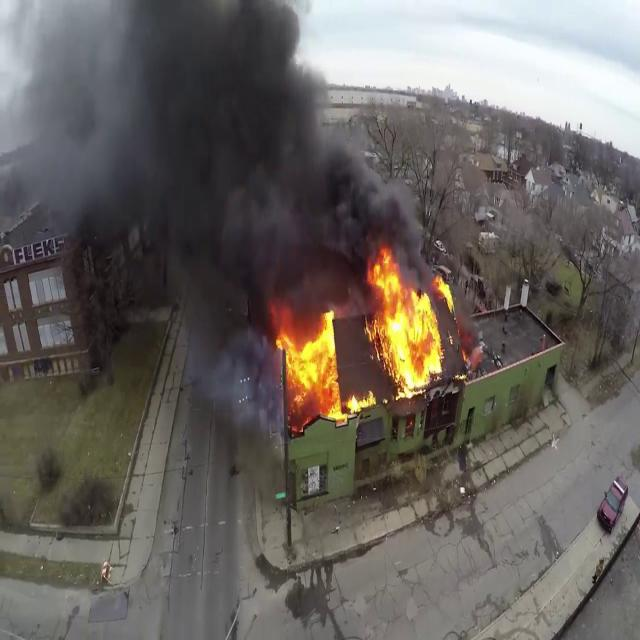Fire: (362, 246, 453, 398), (273, 311, 367, 424)
Smoke: (0, 0, 415, 327)
